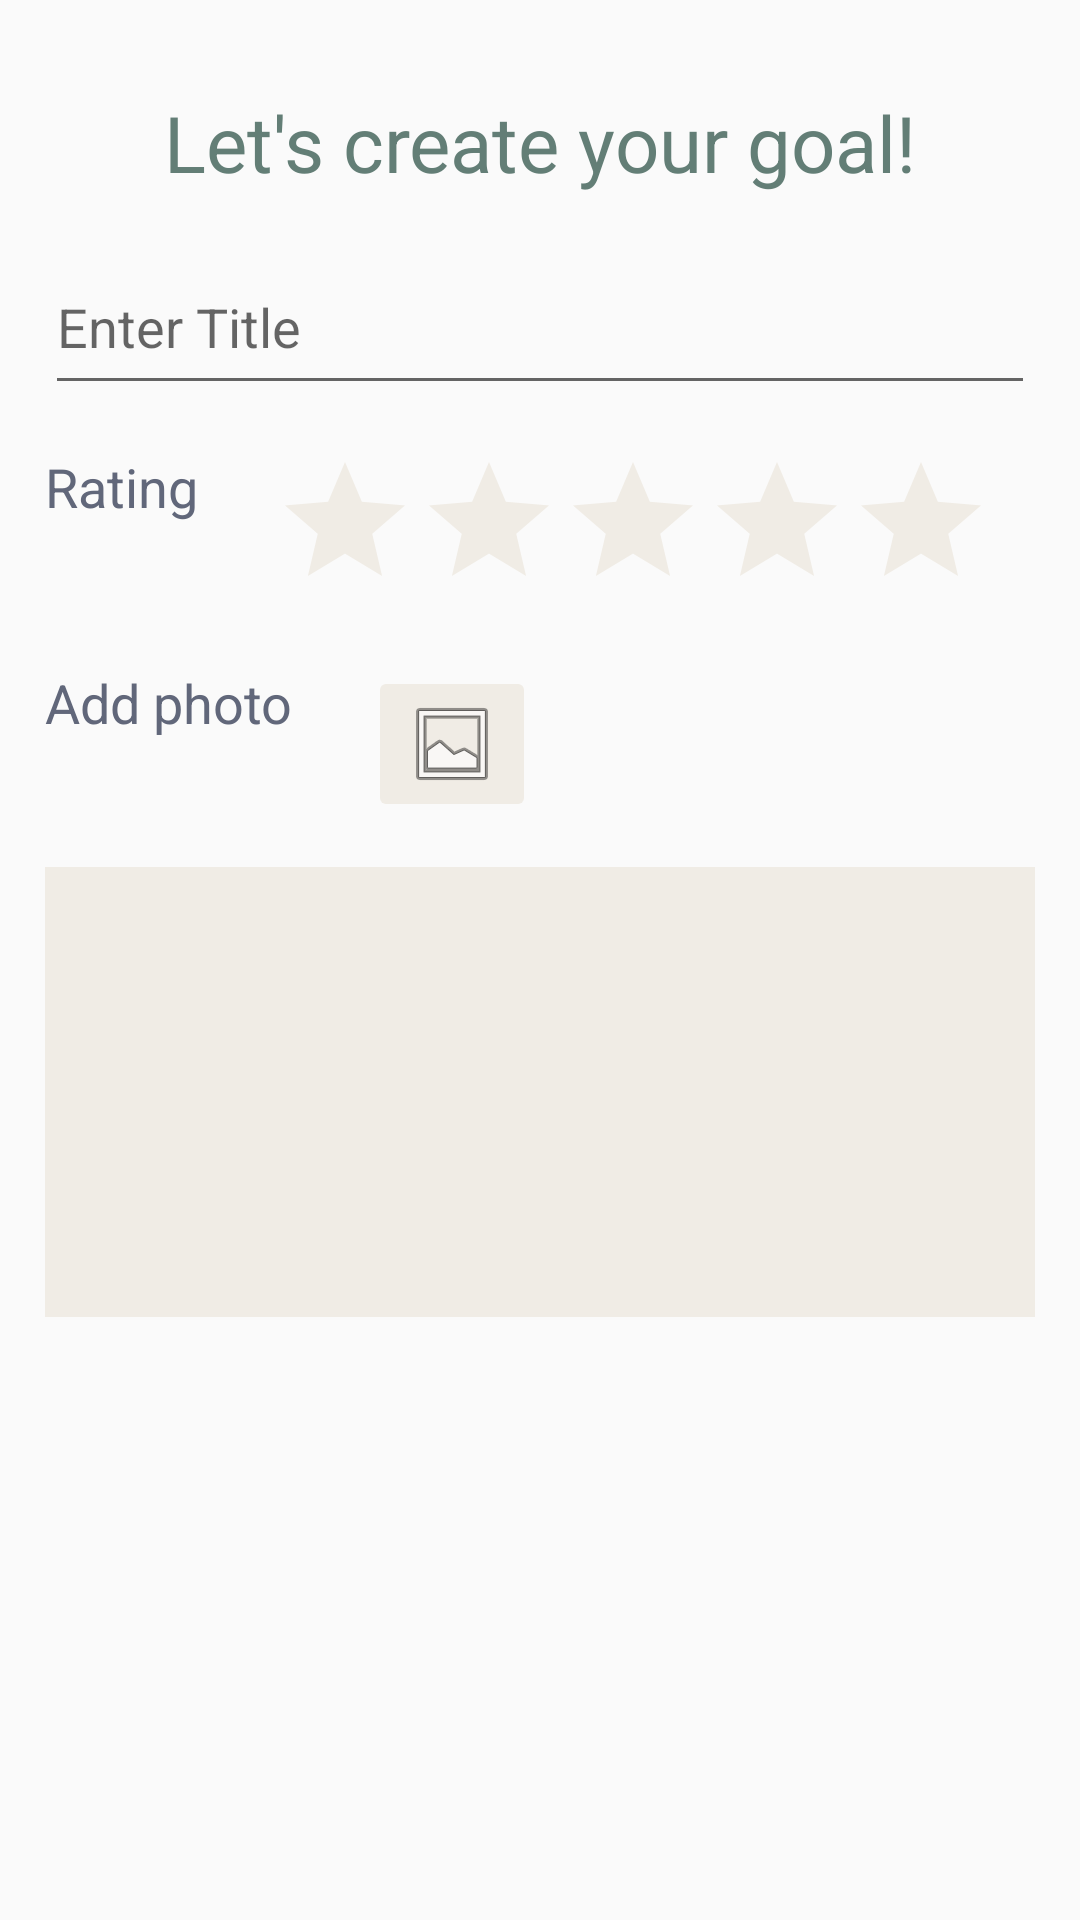

Named icons in this screenshot (1080*1920) and their centers, (x=x, y=y):
gallery: (x=452, y=744)
